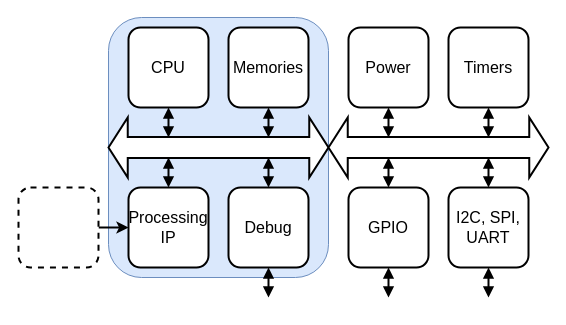
Some shapes in this 566 by 325 pixel diagram are drawn without their labels. The shapes that lost their labels are listed below. From the top down, each one's centre as x and y in pixels, then its label:
point (218, 147): Performance Bus
point (438, 147): Peripheral Bus
point (58, 227): Data Input
